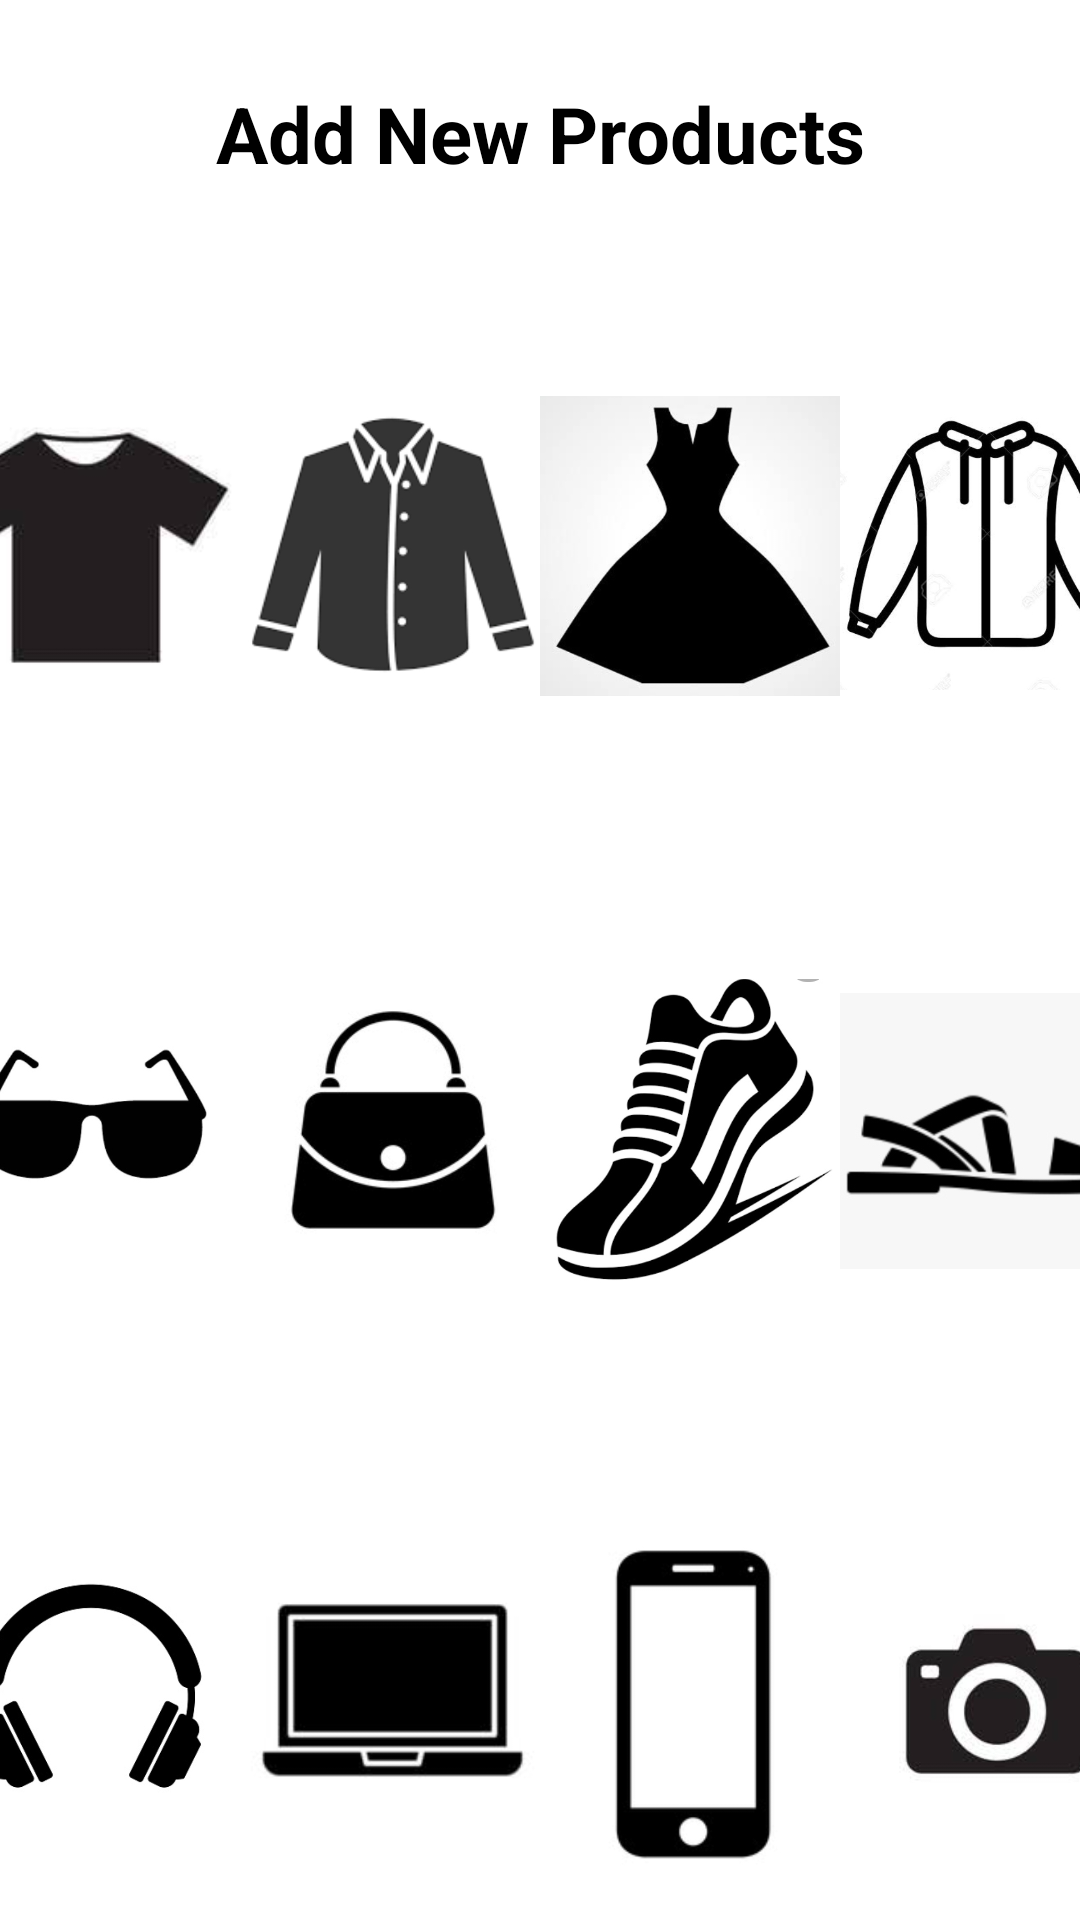

Icons on this 1080 × 1920 Android screen, each with the point to tap as (x=x, y=y):
girlsdresses: (x=690, y=546)
laptop: (x=392, y=1690)
phone: (x=693, y=1704)
purse: (x=393, y=1120)
shirts: (x=393, y=544)
shoes: (x=693, y=1129)
